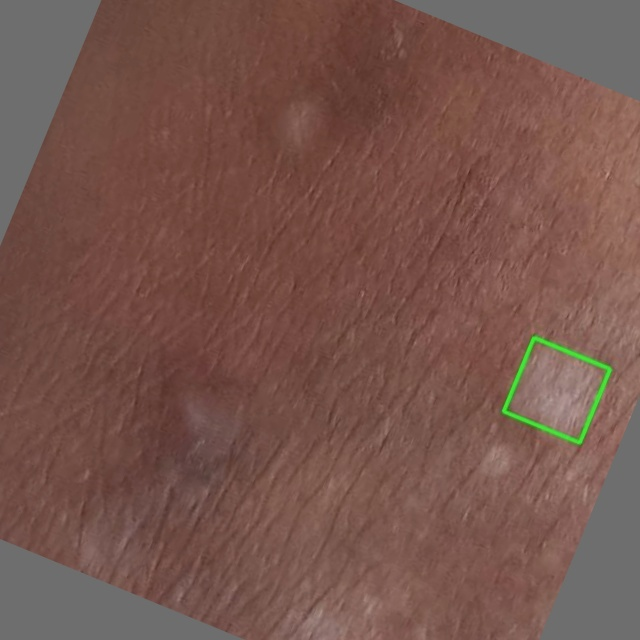Eczema: (503, 337, 610, 442)
